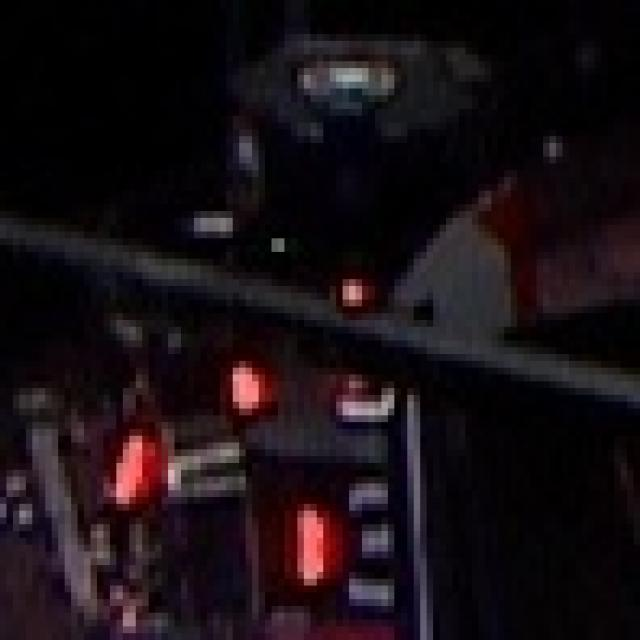R3: (197, 337, 404, 426), (272, 450, 394, 600)
